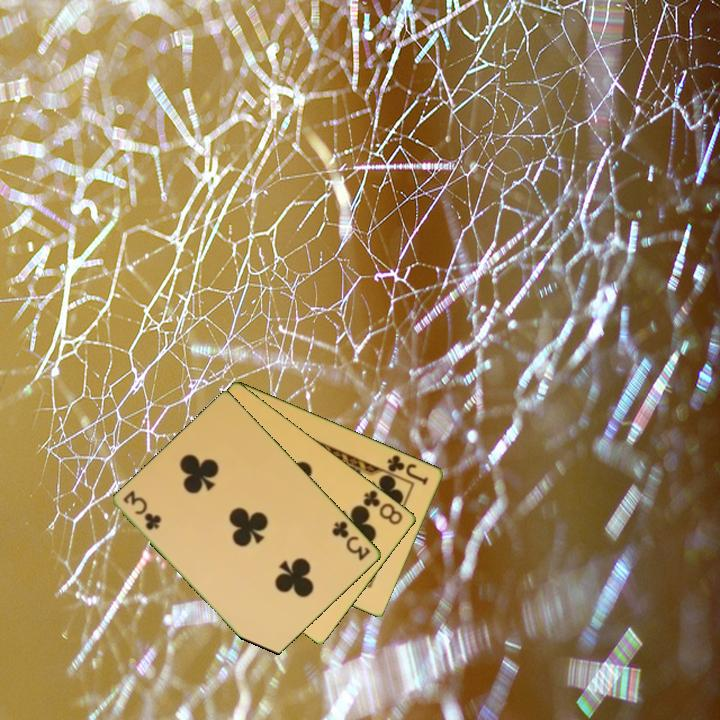3c: (329, 517, 374, 564), (120, 487, 164, 533)
8c: (360, 486, 406, 528)
Jc: (384, 451, 431, 488)
